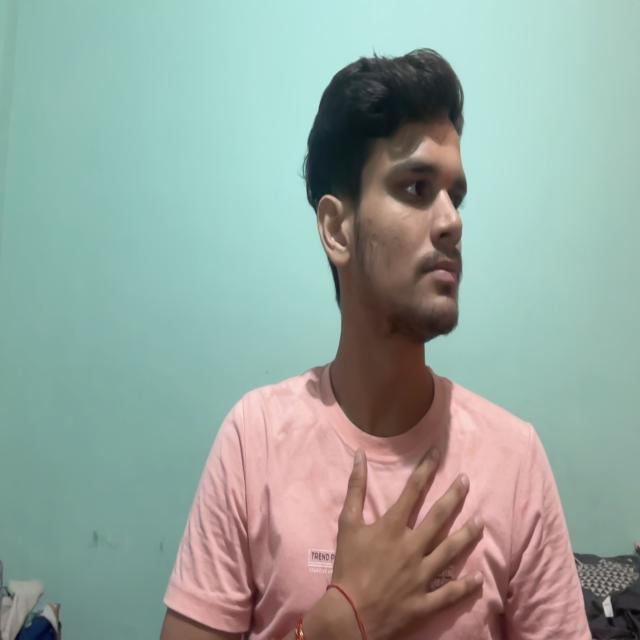Please: (306, 392, 498, 640)
